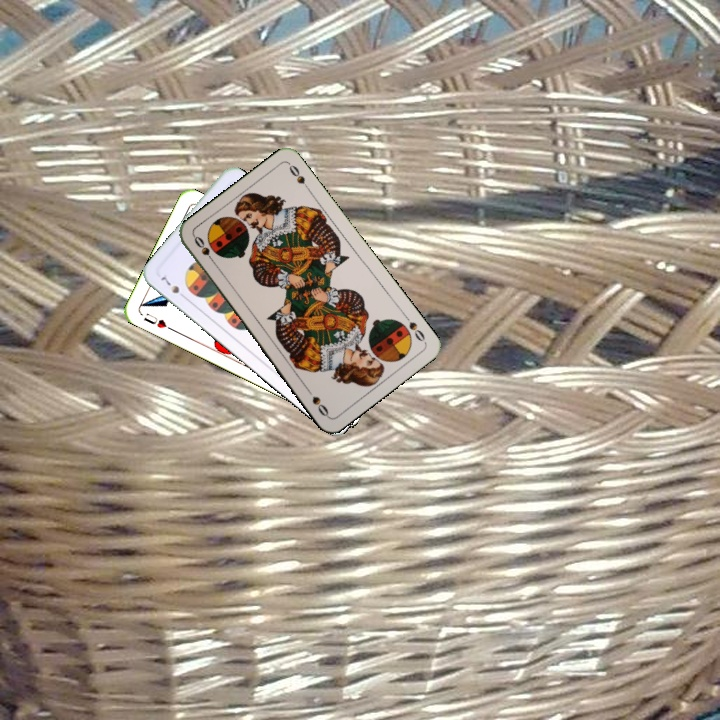HU: (139, 309, 175, 333)
S7: (156, 273, 189, 302)
SO: (190, 232, 219, 268), (400, 310, 428, 345)
